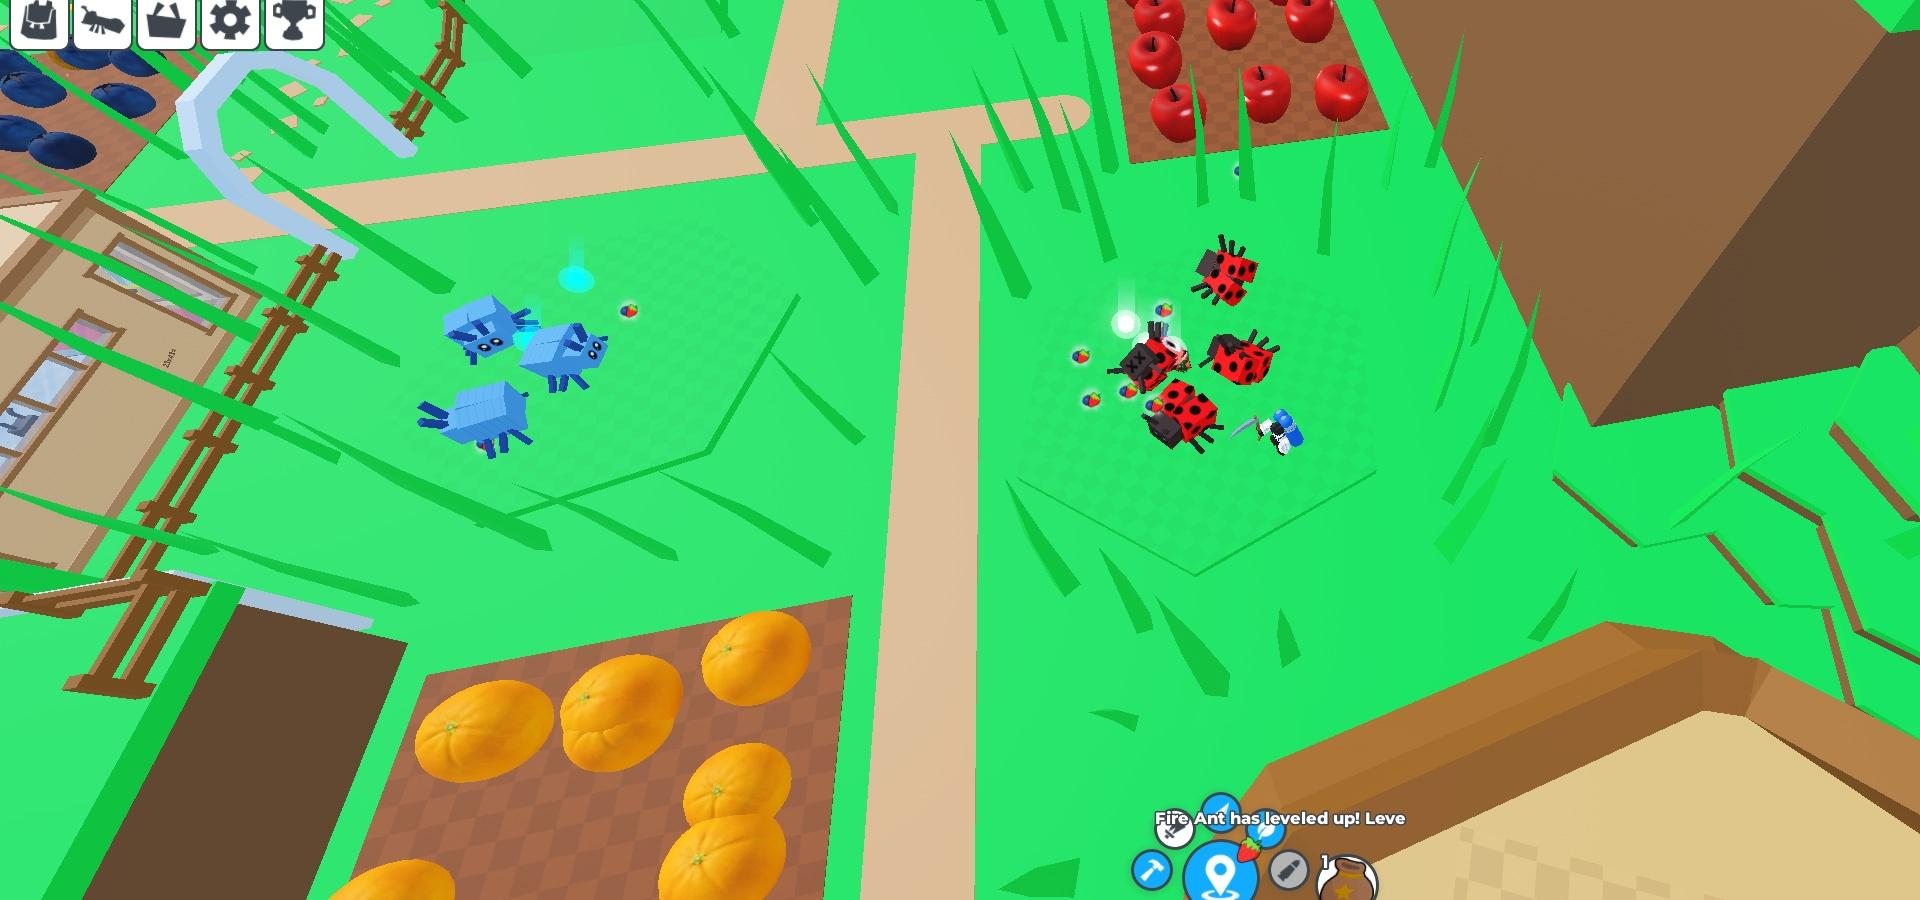Enemy: (410, 386, 536, 464), (520, 322, 620, 397), (437, 298, 534, 364), (1141, 377, 1223, 453), (1191, 235, 1265, 310), (1202, 331, 1286, 388)
